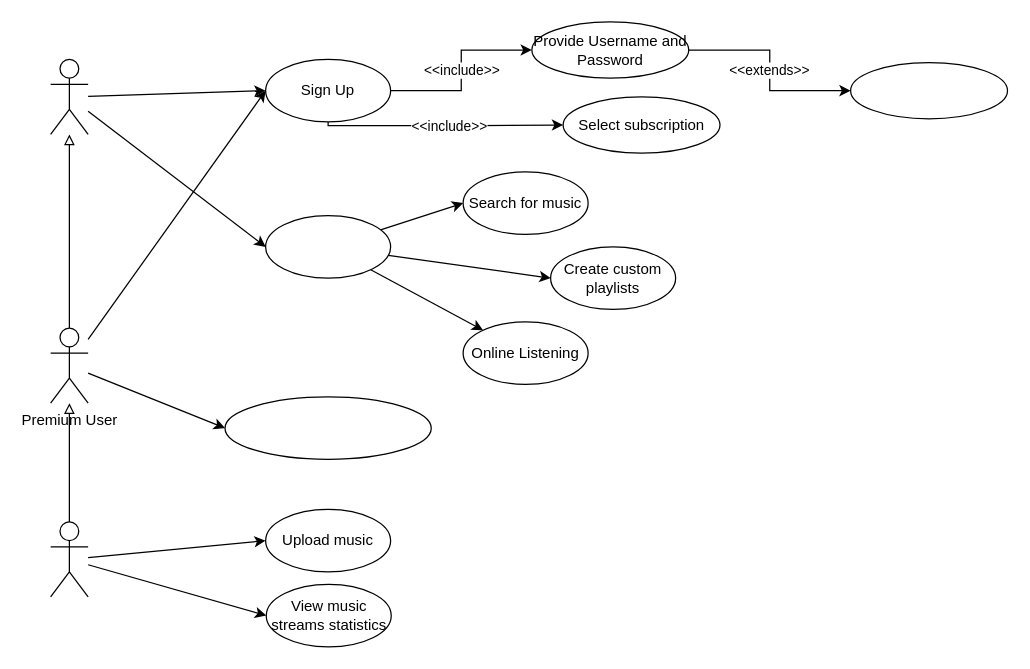
Some shapes in this 1030 by 669 pixel diagram are drawn without their labels. Here are the shapes that lost their labels. From the top down, the centre of each, then its label:
point (68, 96): Free User
point (928, 90): optional information: name/email address
point (327, 246): Sign In
point (327, 427): Download Songs/Playlist (Offline Listening)
point (68, 559): Artist
